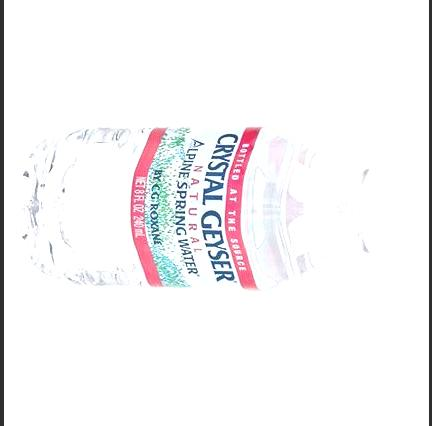bottle: (15, 126, 416, 294)
